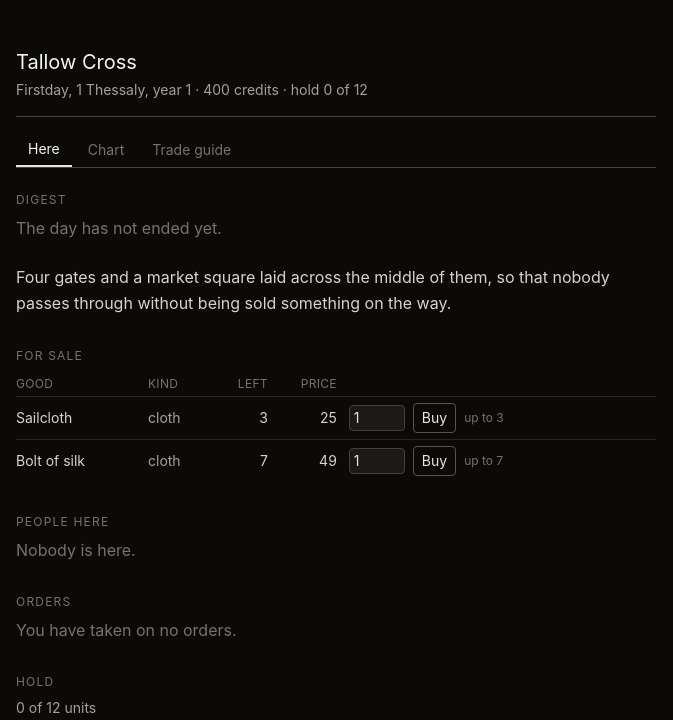
it: the page › departs along a lane and lands, with the span in the digest
The width and height of the screenshot is (673, 720).
Click the tab "Chart" at (106, 150), box [76,133,136,167]
(page scrolled)
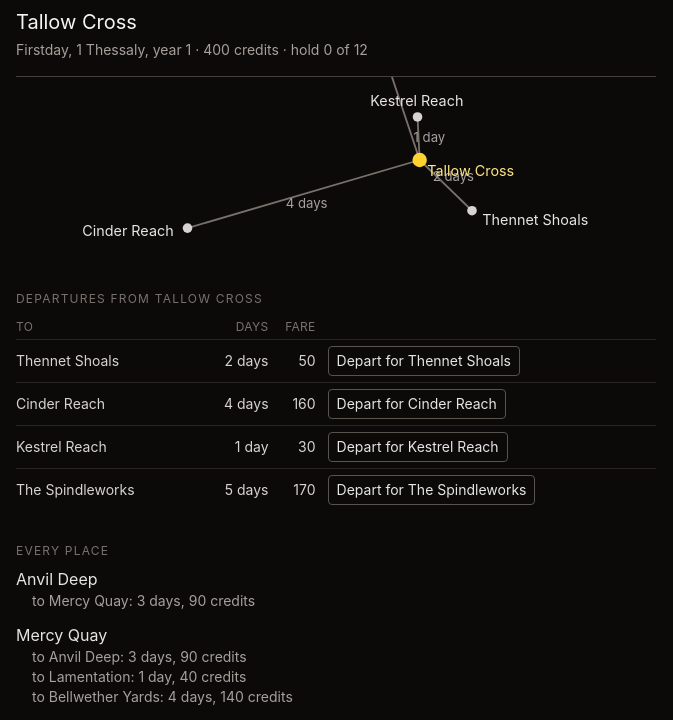
Click the button "Depart for Thennet Shoals" at (424, 360), box [328,346,520,376]
(page scrolled)
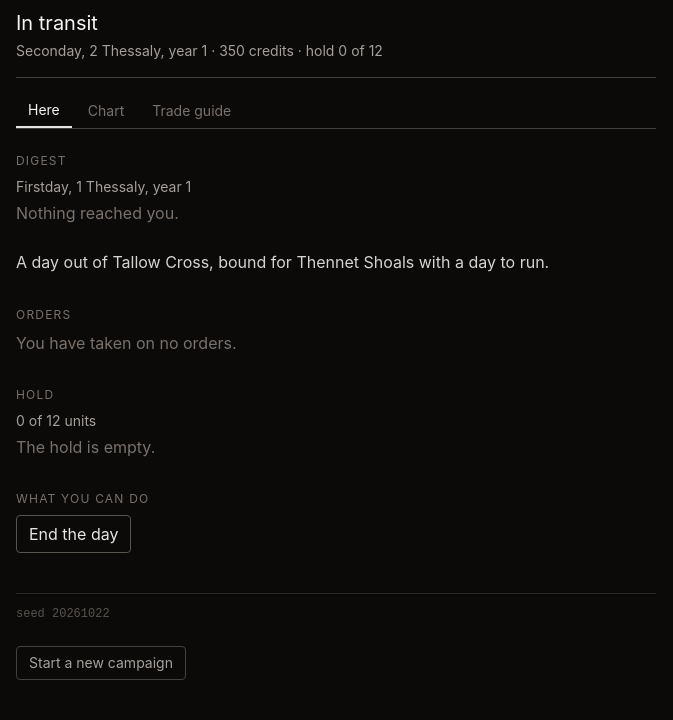
Click the button "End the day" at (74, 534), box [16,515,131,553]
(page scrolled)
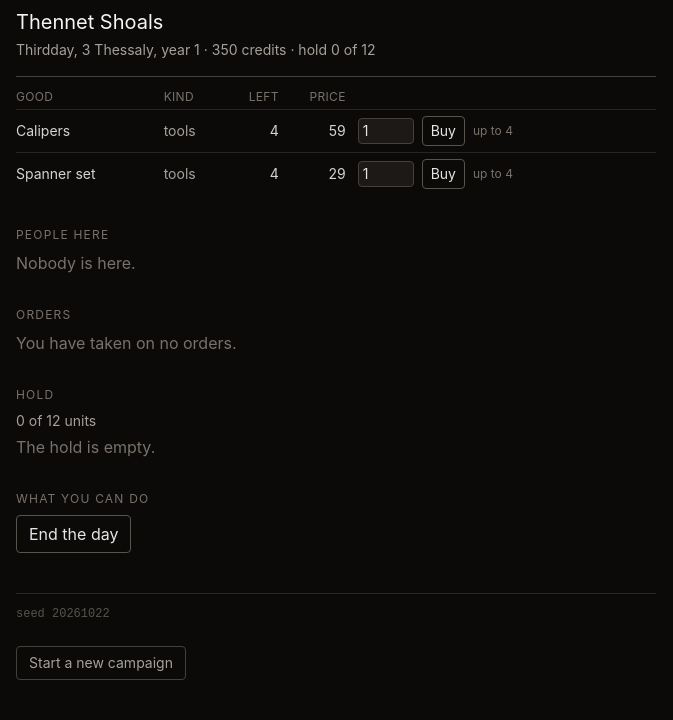
Now the heading "Thennet Shoals" is shown, box [16,10,163,34]
